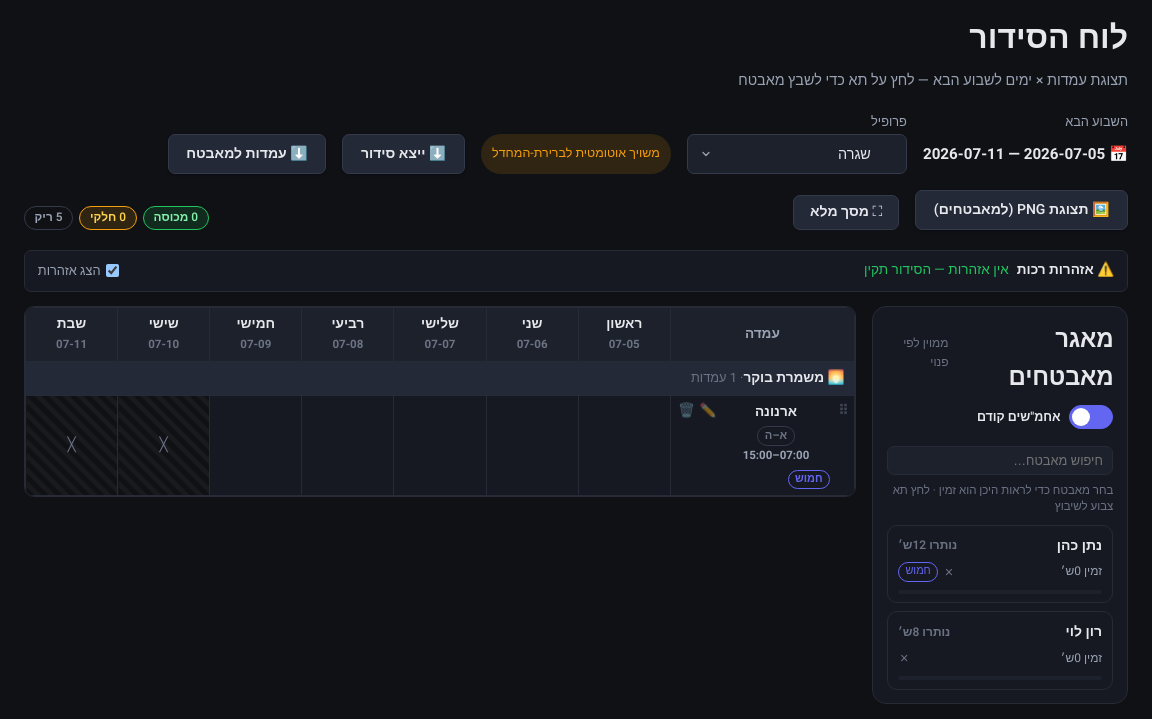
Test case: BoardPage › hides a guard from the pool and restores them
Expected: the text "נתן כהן" is shown, [1057,535,1102,557]
Click the button named "הסתר מהמאגר" at coordinates (949, 572), box [943,565,955,579]
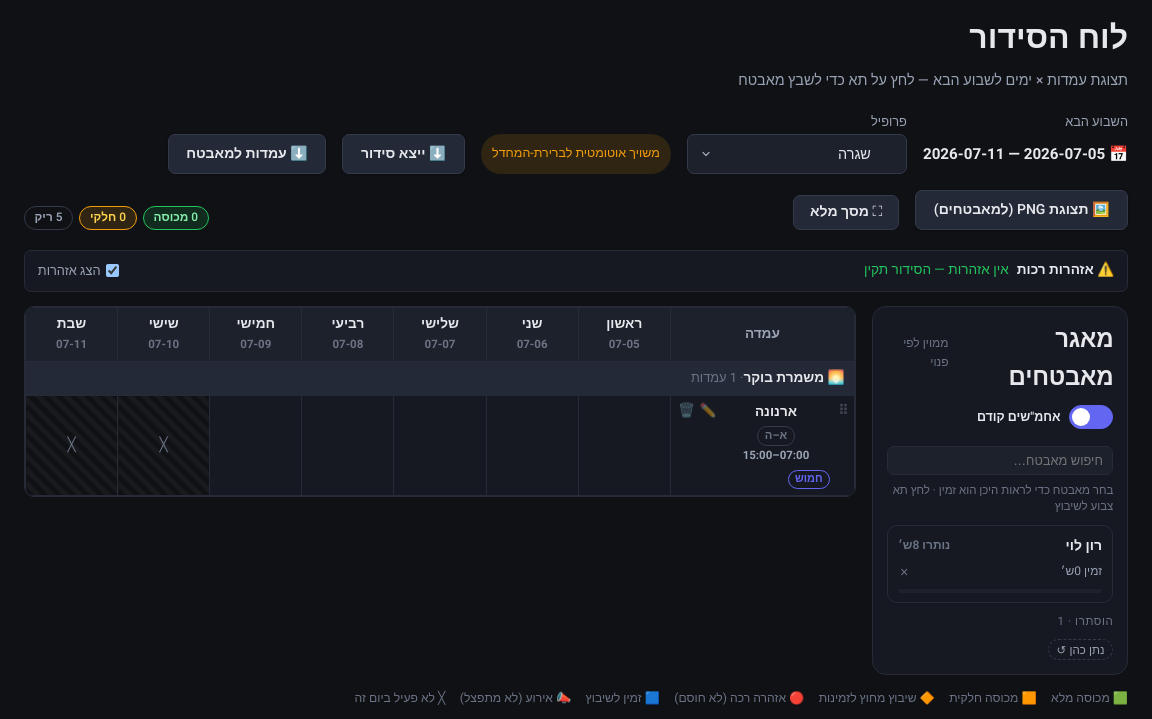
Expected: the text "הוסתרו · 1" is shown, [1058,613,1113,630]
Click the button titled "החזר למאגר" at coordinates (1080, 650), box [1048,639,1113,660]
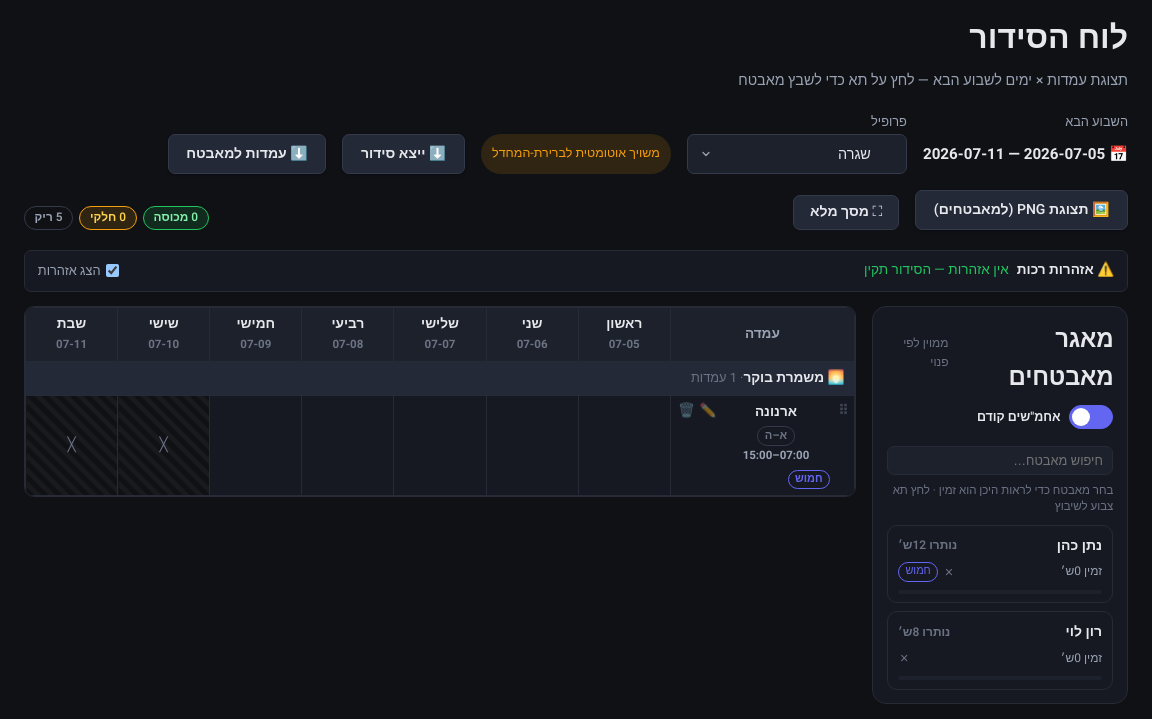
Expected: the text "הוסתרו" is gone
